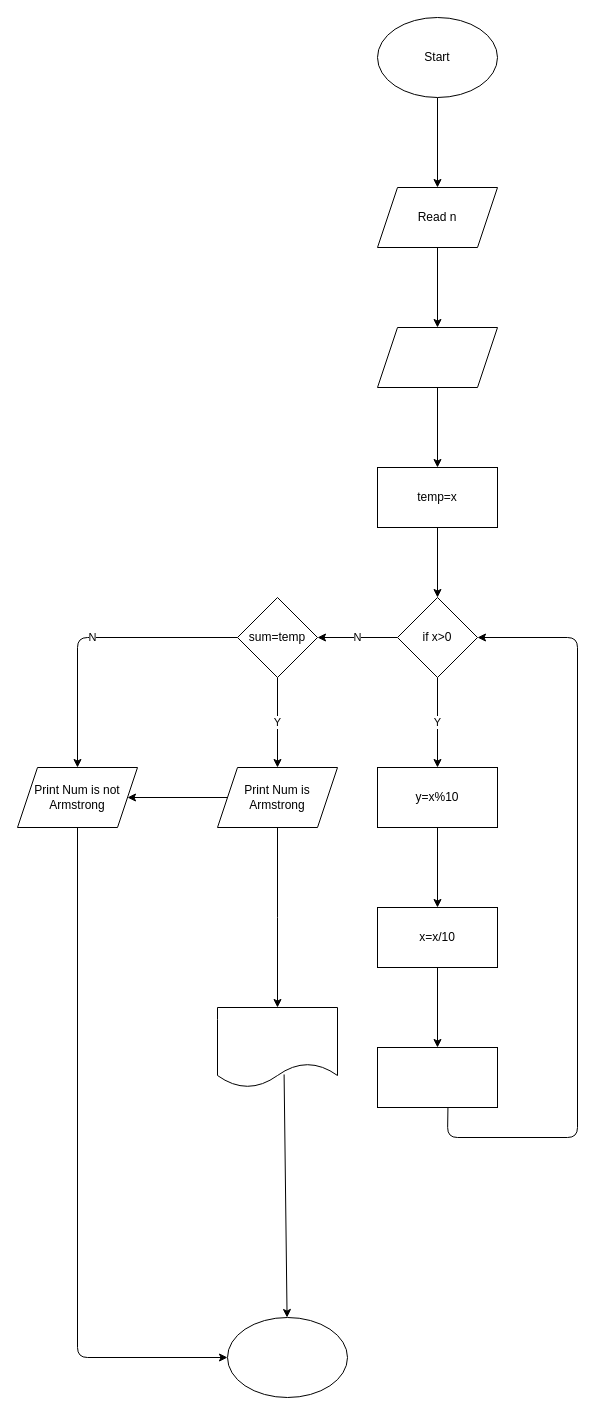
The diagram is 603 pixels wide and 1415 high, and some of its shapes have lost their labels. Each missing label, with the box of its shape:
Print sum: (216, 1006, 338, 1088)
stop: (226, 1316, 348, 1398)
Sum=0: (376, 326, 498, 388)
Sum=Sum+(Y*Y*Y): (376, 1046, 498, 1108)
